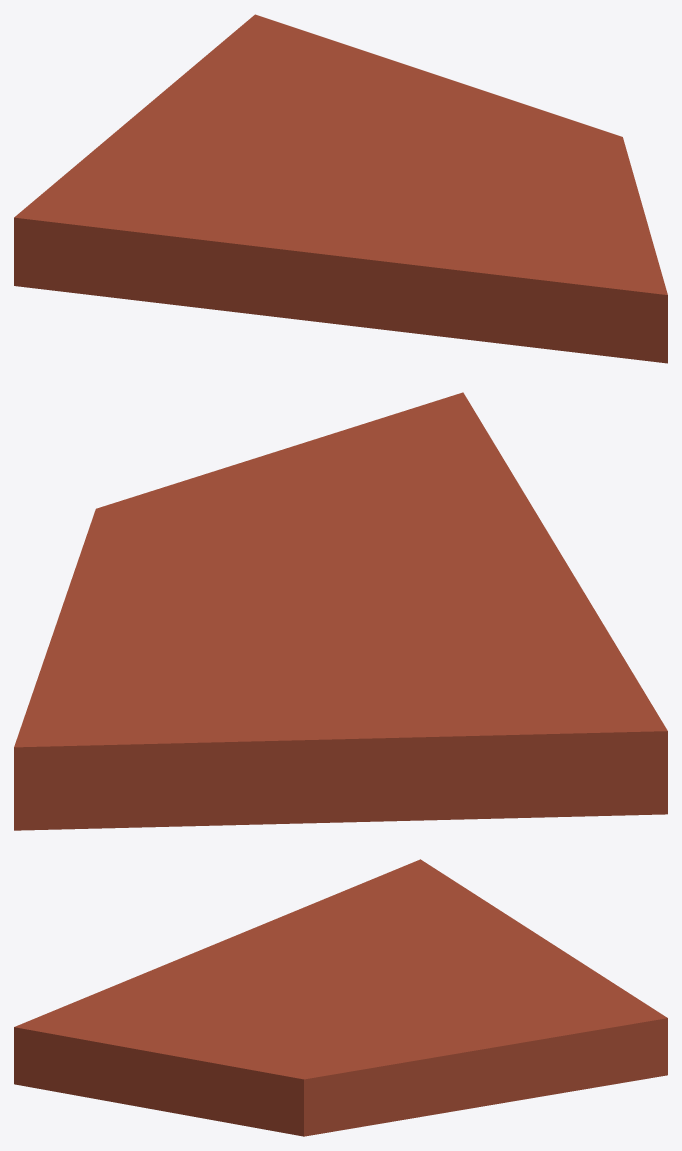
The model's file is flagellipinnaDead_low.glb.
3 renders of one model, top to bottom at view 1: azimuth 30°, elevation 25°; view 2: azimuth 150°, elevation 25°; view 3: azimuth 270°, elevation 25°, orthographic. The views are drawn at different scales.
Parts seen in each view (by area): view 1: Cube; view 2: Cube; view 3: Cube.
Boxes of the visible parts, x1,y1,x2,y2 form: Cube: (14,14,667,363); Cube: (14,392,667,830); Cube: (14,859,667,1136).
Size of the model in its own units: 0.4682 by 0.0567 by 0.5878.
